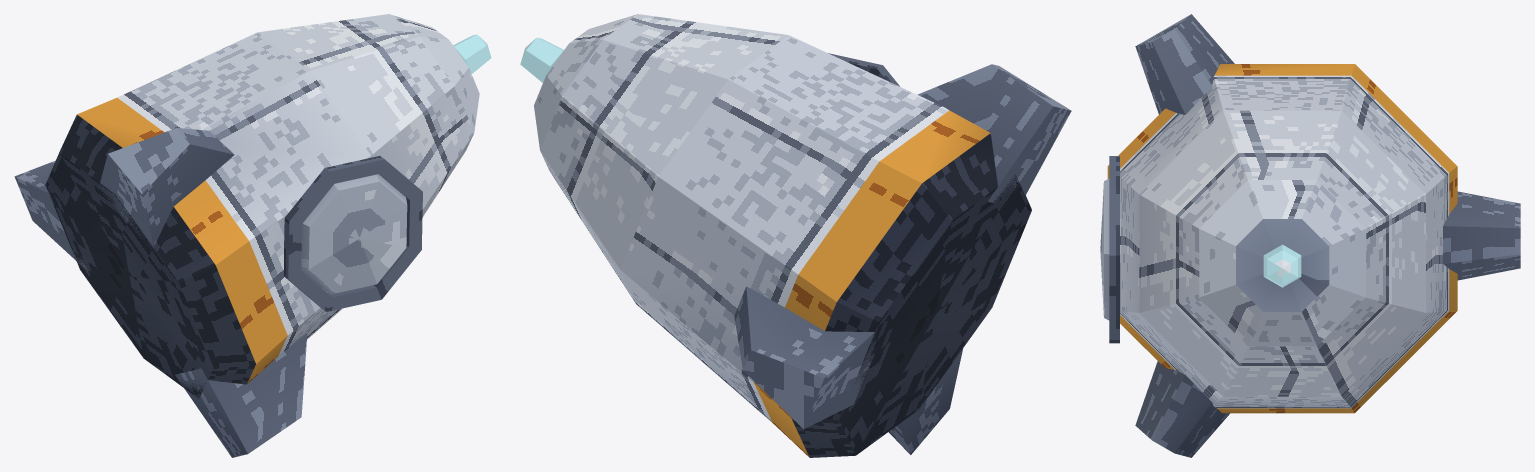
The model's file is ship.escape_pod__crashed.glb.
The picture shows the model from 3 angles, left to right: view 1: azimuth 30°, elevation 25°; view 2: azimuth 150°, elevation 25°; view 3: azimuth 270°, elevation 25°; orthographic projection. The views are drawn at different scales.
Visible parts, largest first — view 1: kit_body, kit_fins, kit_hatch, kit_hatch_ring, kit_beacon; view 2: kit_body, kit_fins, kit_beacon, kit_hatch_ring; view 3: kit_body, kit_fins, kit_hatch_ring, kit_beacon, kit_hatch.
Part boxes in pixels (left/top/right/bottom): kit_body: left=45, top=14, right=479, bottom=398; kit_fins: left=14, top=128, right=307, bottom=457; kit_hatch: left=301, top=174, right=407, bottom=294; kit_hatch_ring: left=284, top=156, right=422, bottom=311; kit_beacon: left=453, top=34, right=491, bottom=73; kit_body: left=534, top=14, right=1031, bottom=457; kit_fins: left=734, top=64, right=1071, bottom=454; kit_beacon: left=520, top=37, right=563, bottom=82; kit_hatch_ring: left=828, top=53, right=899, bottom=86; kit_body: left=1107, top=64, right=1457, bottom=413; kit_fins: left=1135, top=14, right=1520, bottom=457; kit_hatch_ring: left=1109, top=156, right=1119, bottom=343; kit_beacon: left=1263, top=244, right=1301, bottom=287; kit_hatch: left=1100, top=179, right=1109, bottom=320.
Size of the model in its own units: 3.02 by 2.43 by 2.33.
7 materials, 7 textured.
